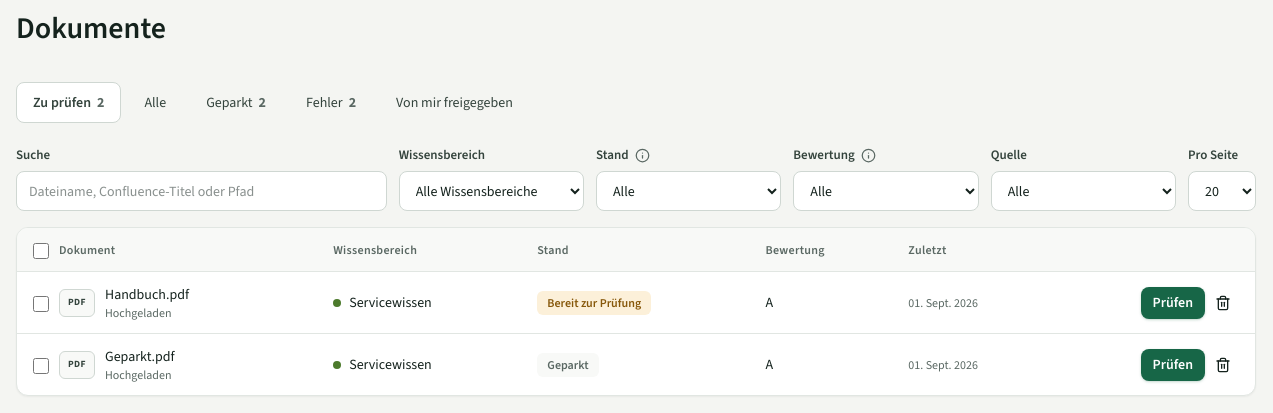
filters by Stand client-side and tells parked documents apart from those to review
The image size is (1273, 413).
Expected: the text "Geparkt.pdf" is shown, [105, 347, 175, 366]
Step 1. Select "Prüfung" in the dropdown labelled "Stand" → [689, 191], box [596, 171, 781, 211]
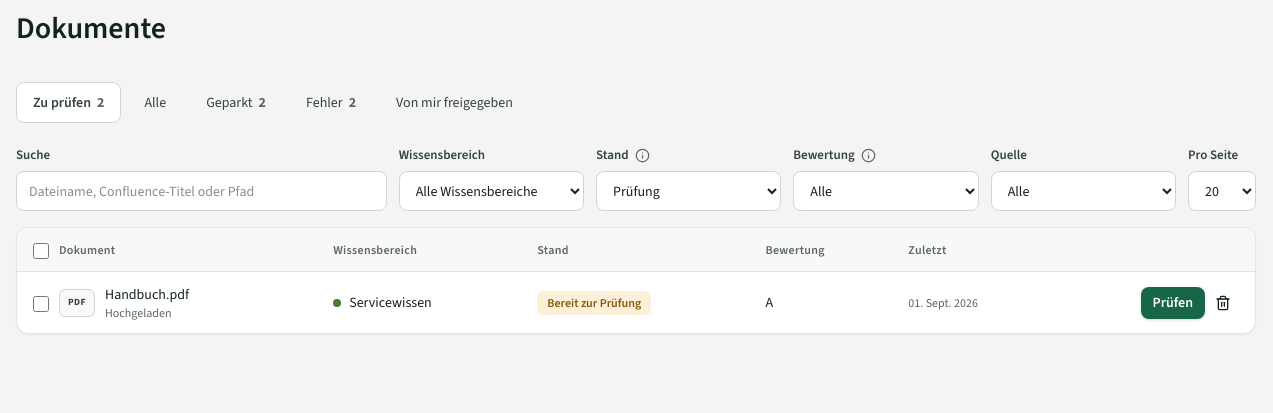
Expected: the text "Handbuch.pdf" is shown, [105, 285, 189, 304]
Expected: the text "Geparkt.pdf" is gone
Step 2. Select "Geparkt" in the dropdown labelled "Stand" → [689, 191], box [596, 171, 781, 211]
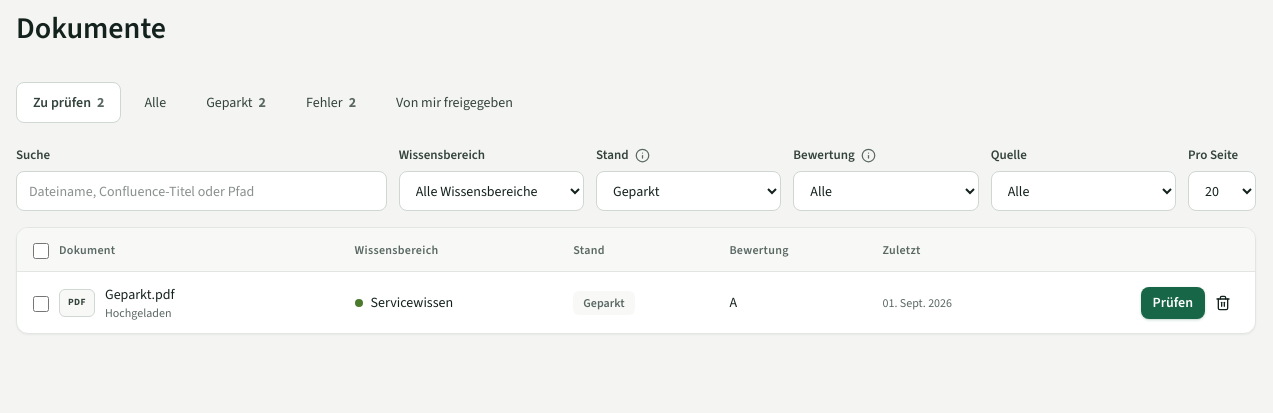
Expected: the text "Geparkt.pdf" is shown, [105, 285, 175, 304]
Expected: the text "Handbuch.pdf" is gone
